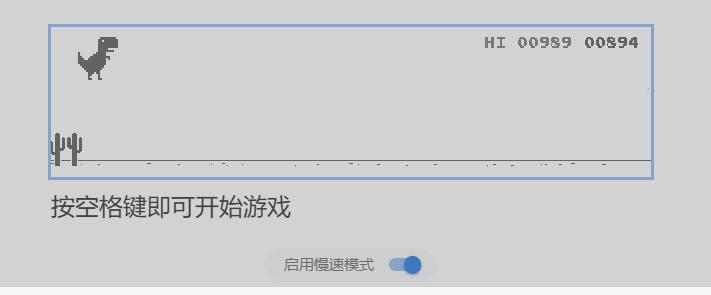cactus: (51, 132, 85, 168)
dino: (78, 37, 121, 81)
